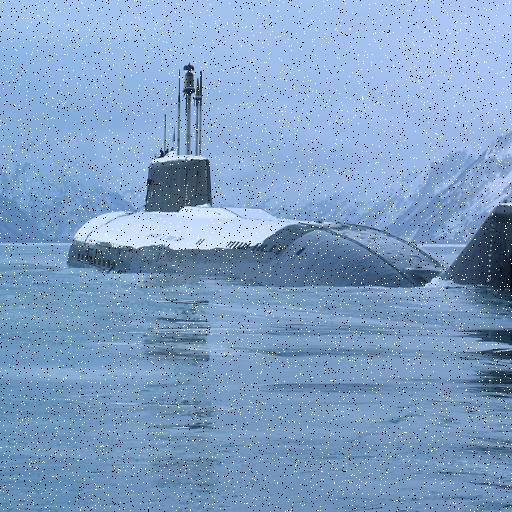submarine: (64, 56, 512, 311)
